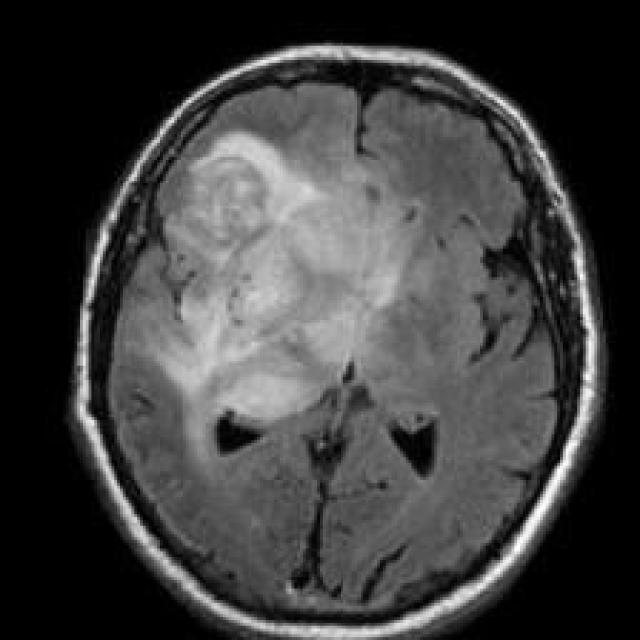Tumor: (160, 137, 369, 426)
